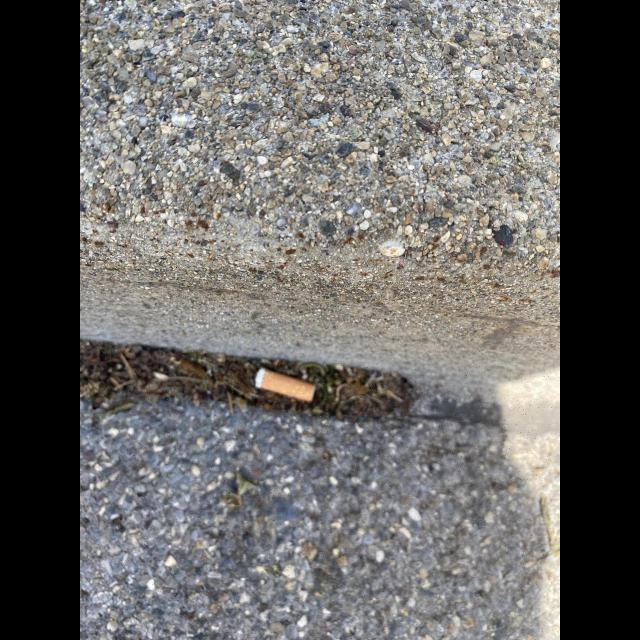cigarette: (255, 366, 318, 404)
